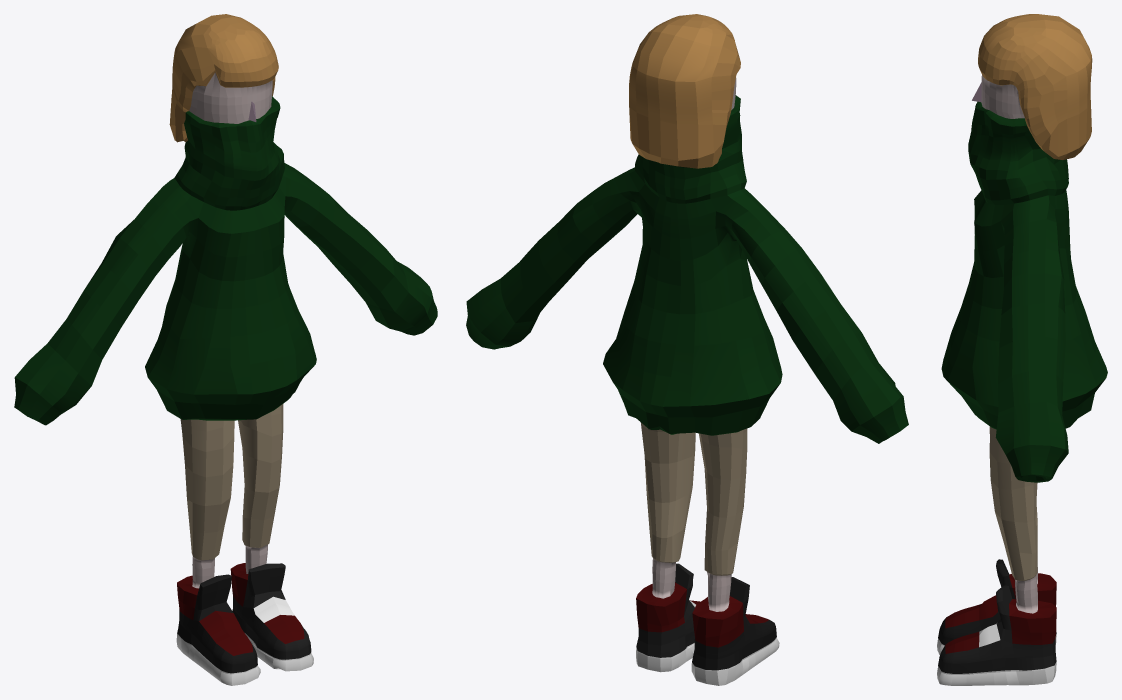
Rendered from alice.fbx.
The picture shows the model from 3 angles, left to right: view 1: azimuth 30°, elevation 25°; view 2: azimuth 150°, elevation 25°; view 3: azimuth 270°, elevation 25°; orthographic projection. The views are drawn at different scales.
Visible parts, largest first — view 1: alice; view 2: alice; view 3: alice.
Boxes of the visible parts, x1,y1,x2,y2 form: alice: (14, 14, 437, 685); alice: (466, 14, 908, 685); alice: (937, 14, 1107, 685).
Bounding box in the file's own units: 1.71 × 2.43 × 0.5817.
